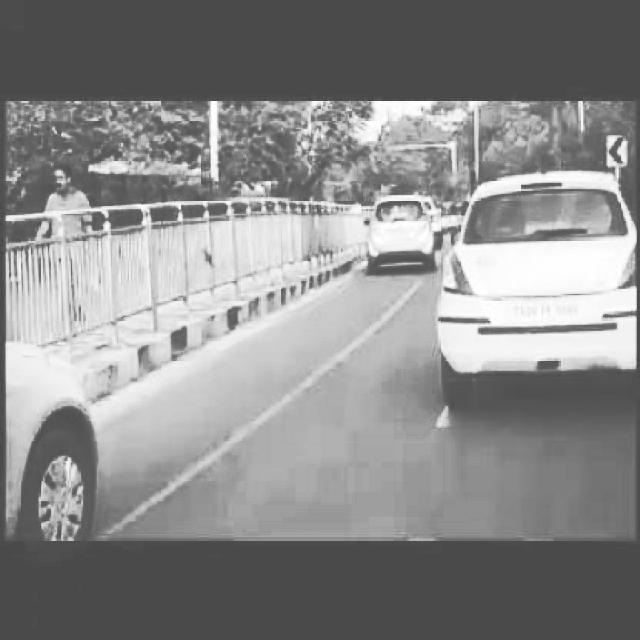Car: (458, 189, 618, 394), (0, 332, 94, 534), (377, 191, 441, 264)
